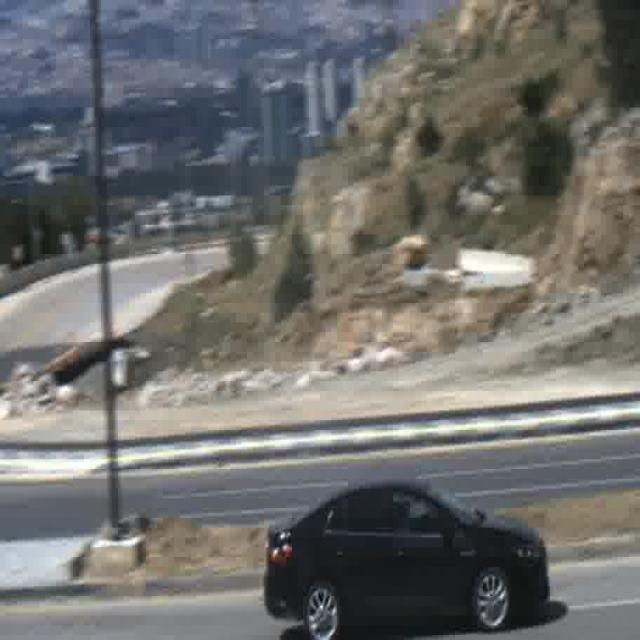Car: (264, 480, 547, 640)
